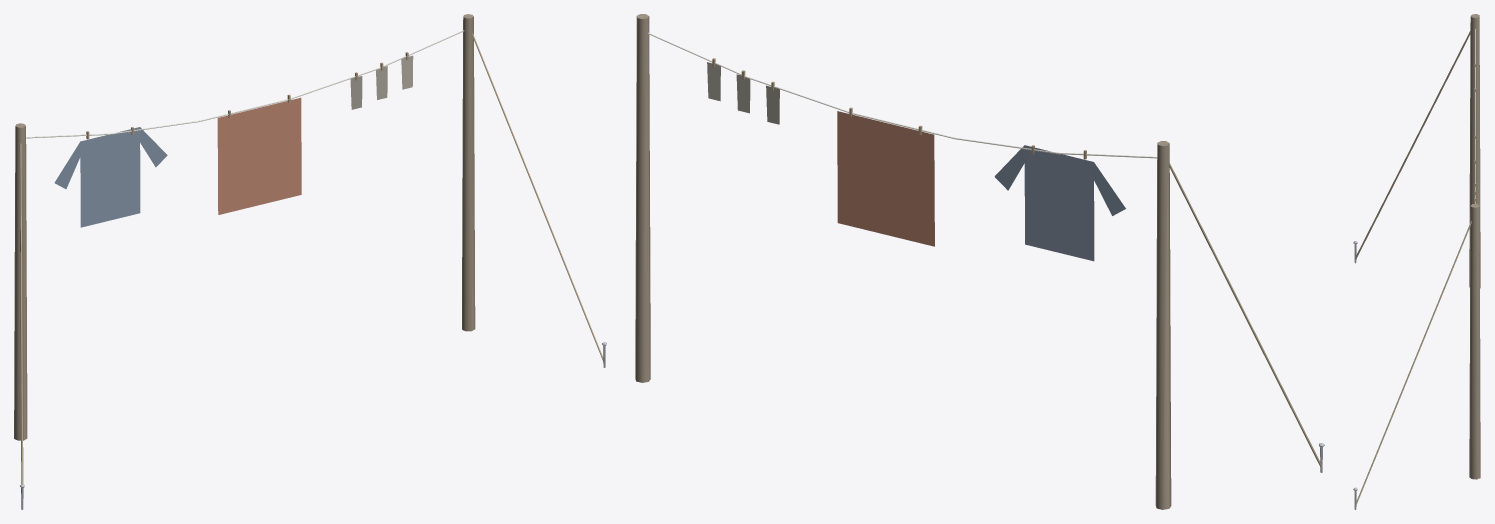
Rendered from camp_clothes_line_a.glb.
3 views of the same model, side by side, from view 1: azimuth 30°, elevation 25°; view 2: azimuth 150°, elevation 25°; view 3: azimuth 270°, elevation 25° (orthographic). The views are drawn at different scales.
Parts seen in each view (by area): view 1: body; view 2: body; view 3: body.
Boxes of the visible parts, x1,y1,x2,y2 form: body: [14, 14, 606, 509]; body: [635, 14, 1324, 509]; body: [1353, 14, 1480, 509].
Bounding box in the file's own units: 3.93 × 2.03 × 0.8513.
